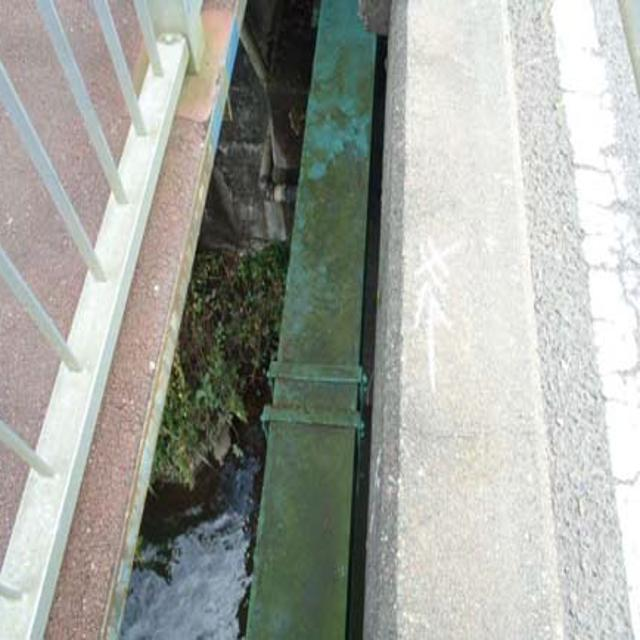crack: (396, 412, 548, 474)
